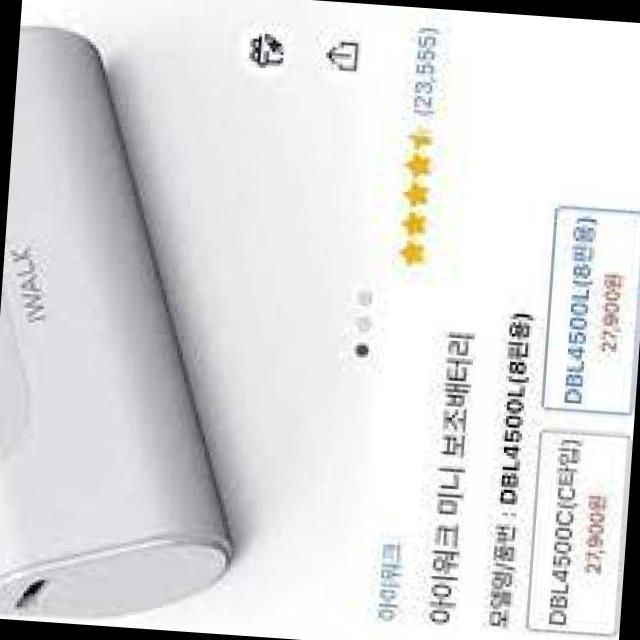portable-charger: (0, 19, 275, 622)
